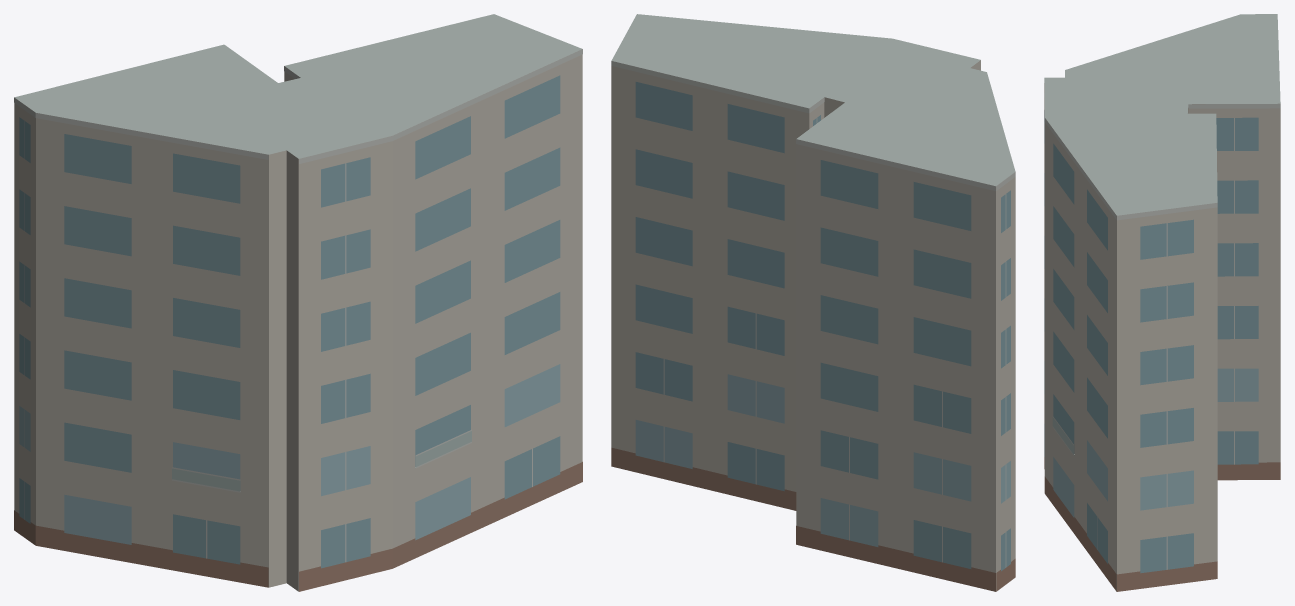
The model's file is survey-upis-32529843.glb.
The picture shows the model from 3 angles, left to right: view 1: azimuth 30°, elevation 25°; view 2: azimuth 150°, elevation 25°; view 3: azimuth 270°, elevation 25°; orthographic projection. The views are drawn at different scales.
Parts seen in each view (by area): view 1: survey-upis-32529843.tmp; view 2: survey-upis-32529843.tmp; view 3: survey-upis-32529843.tmp.
Boxes of the visible parts, x1,y1,x2,y2 form: survey-upis-32529843.tmp: (14, 14, 582, 591); survey-upis-32529843.tmp: (611, 14, 1015, 591); survey-upis-32529843.tmp: (1044, 14, 1280, 591).
Bounding box in the file's own units: 22.67 × 19.7 × 11.22.
